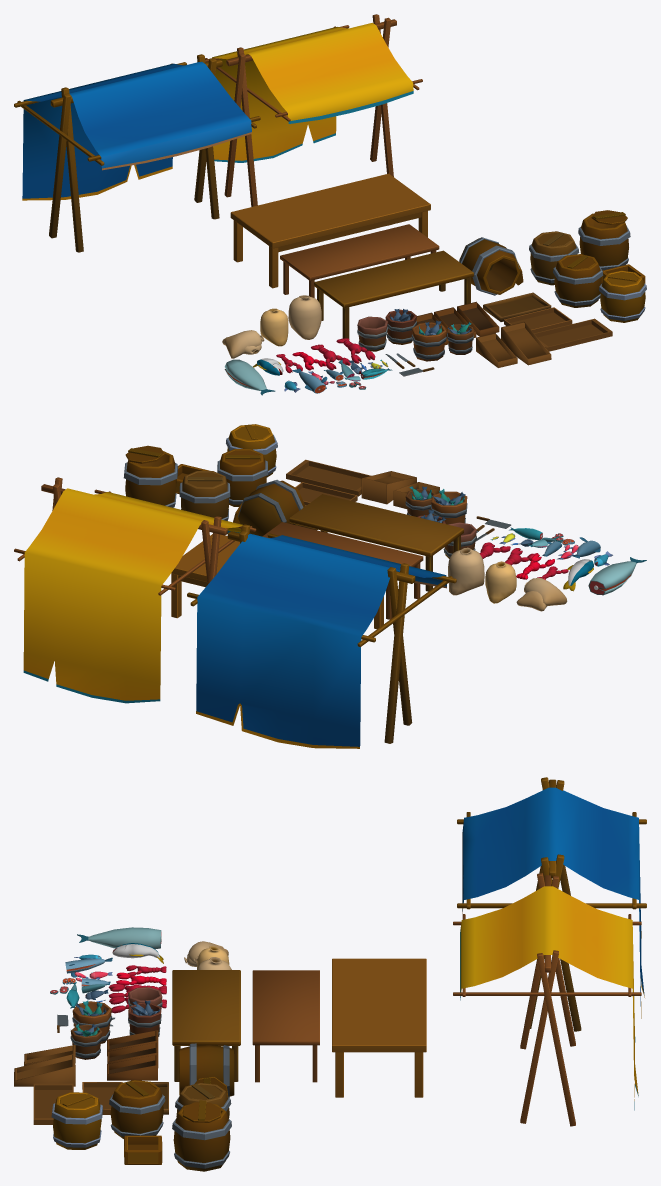
The model's file is Fish_Market.fbx.
3 views of the same model, one above another, from view 1: azimuth 30°, elevation 25°; view 2: azimuth 150°, elevation 25°; view 3: azimuth 270°, elevation 25° (orthographic). The views are drawn at different scales.
Parts seen in each view (by area): view 1: Fish_Market_Tent, Fish_Market_Tent.001, Fish_Market_Table.001, Fish_Market_Table, Fish_Market_Table.002, Fish_Market_Barrel5, Fish_Market_Barrel, Fish_Market_Barrel2, Fish_Market_Barrel.002, Fish_Market_Barrel4, Fish_Market_Desk.002, Fish_Market_Desk.003 (+12 smaller); view 2: Fish_Market_Tent, Fish_Market_Tent.001, Fish_Market_Table, Fish_Market_Barrel, Fish_Market_Barrel5, Fish_Market_Table.002, Fish_Market_Barrel4, Fish_Market_Barrel2, Fish_Market_Table.001, Fish_Market_Desk.002, Fish_Market_Bag.004, Fish_Market_Barrel.002 (+10 smaller); view 3: Fish_Market_Tent.001, Fish_Market_Tent, Fish_Market_Table.001, Fish_Market_Table, Fish_Market_Table.002, Fish_Market_Barrel, Fish_Market_Barrel2, Fish_Market_Barrel.002, Fish_Market_Barrel5, Fish_Market_Desk.003, Fish_Market_Circle.004, Product_Market_Box9.003 (+11 smaller).
Boxes of the visible parts, x1,y1,x2,y2 form: Fish_Market_Tent: (14, 54, 260, 252); Fish_Market_Tent.001: (205, 14, 422, 206); Fish_Market_Table.001: (230, 173, 430, 288); Fish_Market_Table: (314, 250, 473, 338); Fish_Market_Table.002: (280, 224, 439, 297); Fish_Market_Barrel5: (459, 237, 523, 295); Fish_Market_Barrel: (578, 210, 630, 270); Fish_Market_Barrel2: (553, 254, 603, 307); Fish_Market_Barrel.002: (599, 270, 646, 322); Fish_Market_Barrel4: (529, 231, 579, 285); Fish_Market_Desk.002: (534, 318, 612, 351); Fish_Market_Desk.003: (501, 322, 551, 365); Fish_Market_Tent: (187, 524, 456, 748); Fish_Market_Tent.001: (14, 477, 256, 703); Fish_Market_Table: (289, 494, 463, 591); Fish_Market_Barrel: (123, 445, 177, 507); Fish_Market_Barrel5: (233, 479, 304, 536); Fish_Market_Table.002: (262, 522, 423, 619); Fish_Market_Barrel4: (179, 471, 230, 520); Fish_Market_Barrel2: (217, 449, 267, 506); Fish_Market_Table.001: (171, 534, 383, 629); Fish_Market_Desk.002: (286, 459, 371, 496); Fish_Market_Bag.004: (448, 547, 484, 595); Fish_Market_Barrel.002: (226, 424, 277, 477); Fish_Market_Tent.001: (453, 873, 641, 1126); Fish_Market_Tent: (457, 777, 646, 1031); Fish_Market_Table.001: (332, 958, 426, 1097); Fish_Market_Table: (172, 970, 240, 1081); Fish_Market_Table.002: (252, 970, 319, 1082); Fish_Market_Barrel: (172, 1100, 231, 1171); Fish_Market_Barrel2: (109, 1080, 165, 1138); Fish_Market_Barrel.002: (51, 1092, 102, 1149); Fish_Market_Barrel5: (179, 1043, 234, 1097); Fish_Market_Desk.003: (14, 1054, 75, 1086); Fish_Market_Circle.004: (77, 927, 161, 949); Product_Market_Box9.003: (124, 1135, 162, 1164).
Bounding box in the file's own units: 725 × 250 × 831.
